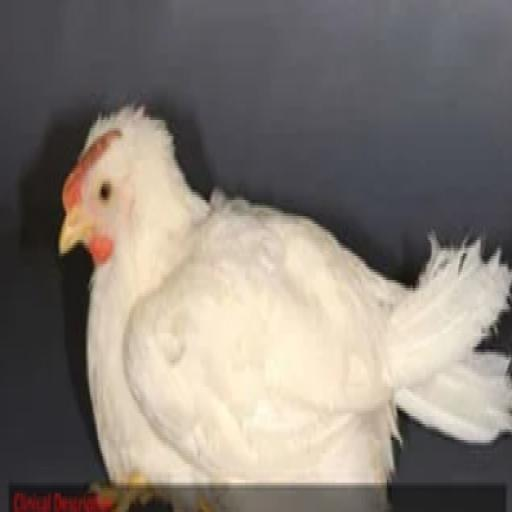healthy: (47, 127, 153, 256)
